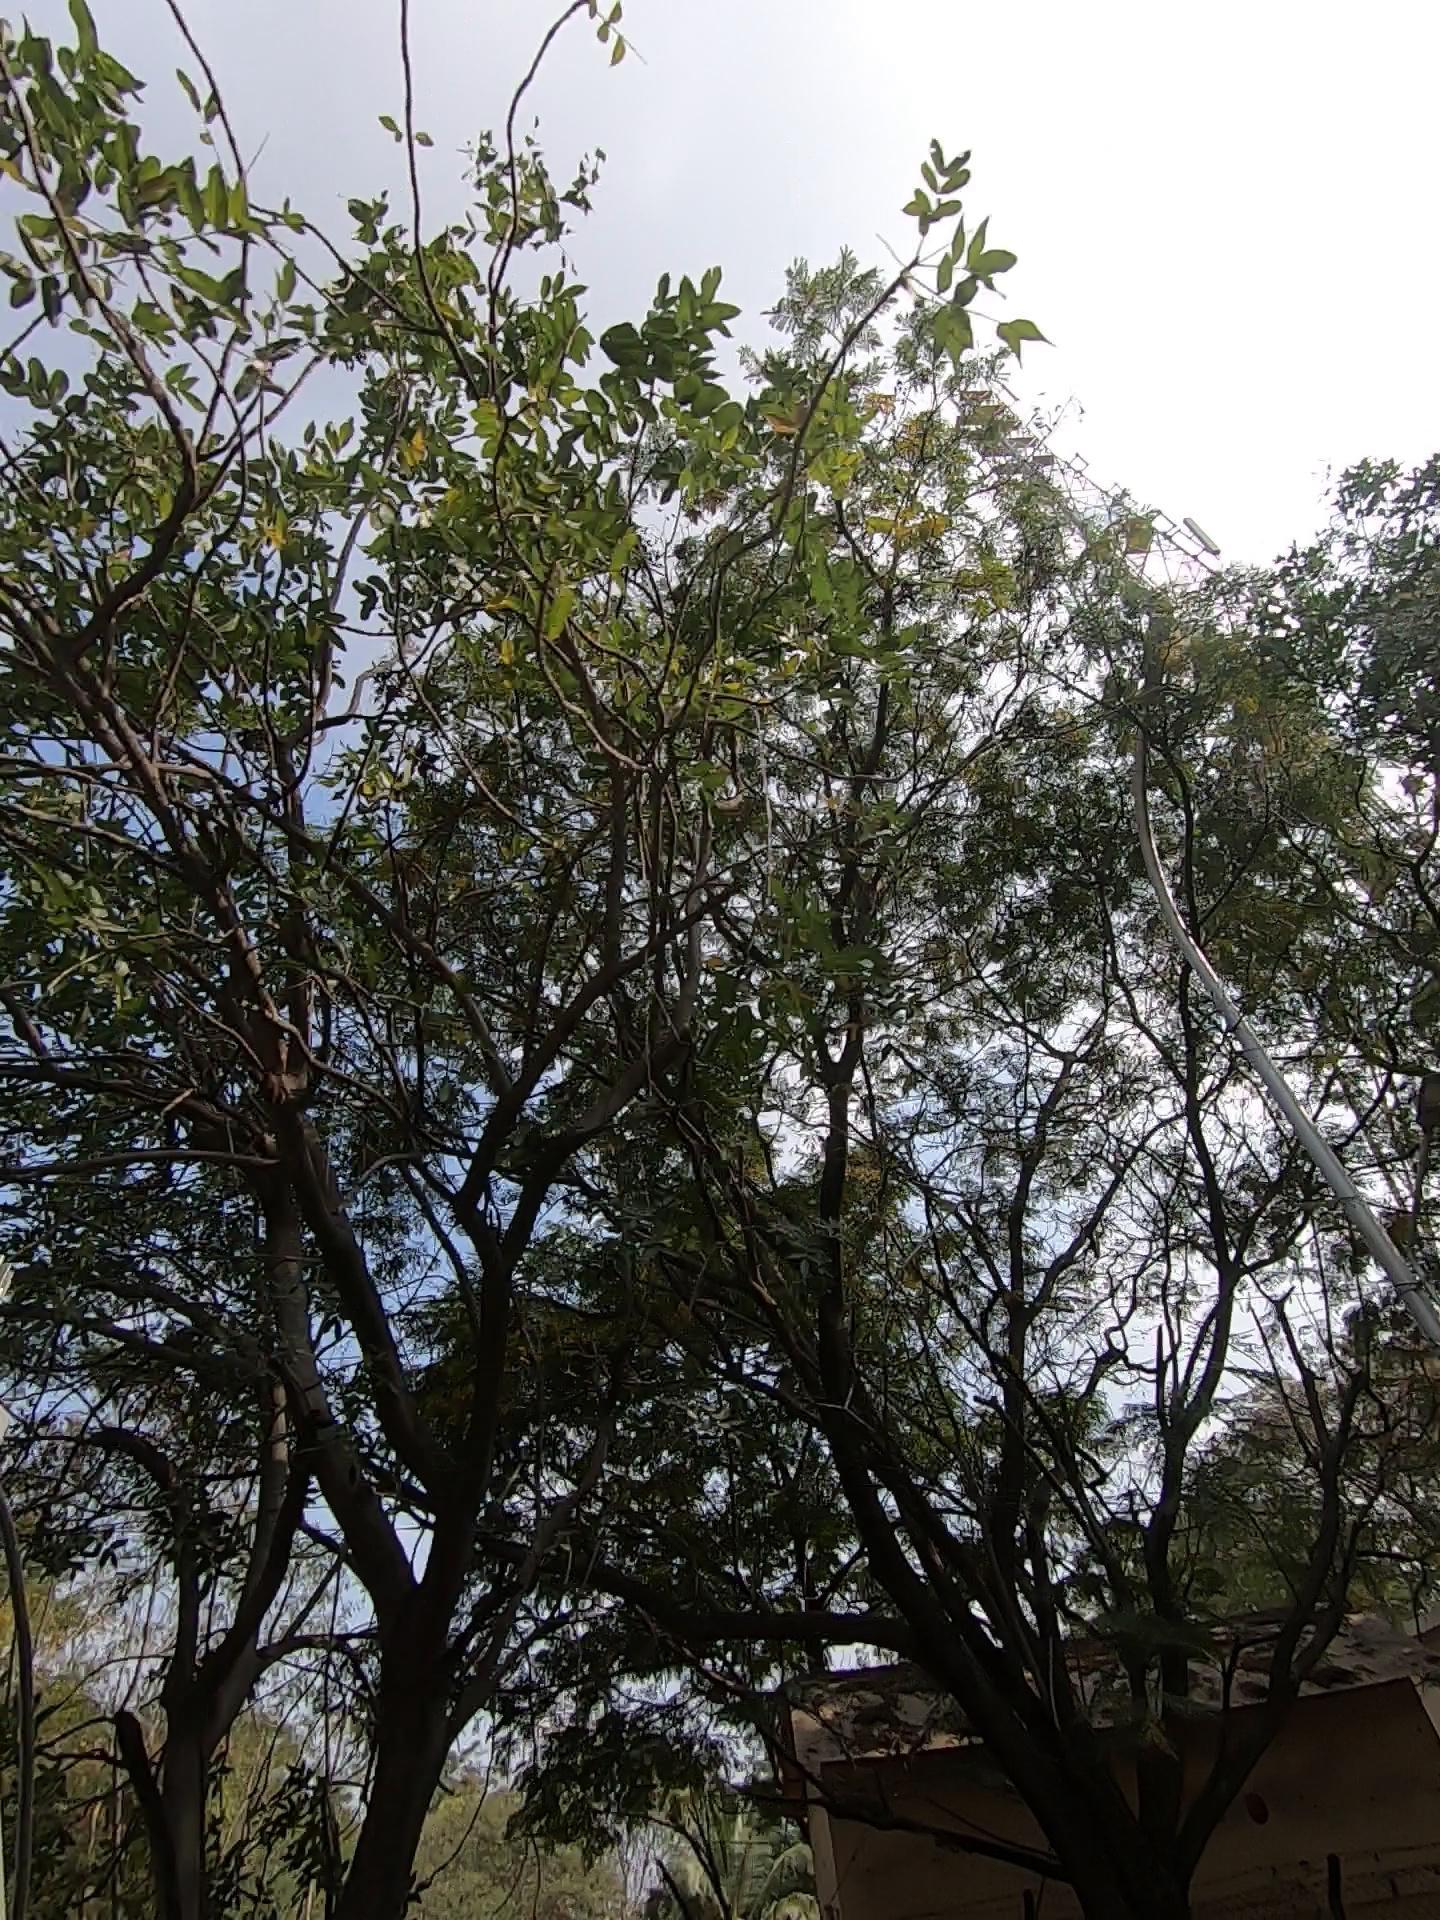off: (1127, 597, 1255, 726)
